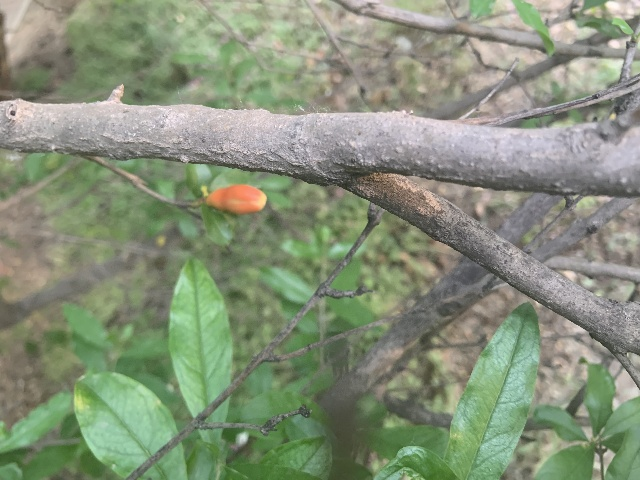bud: (205, 184, 266, 214)
